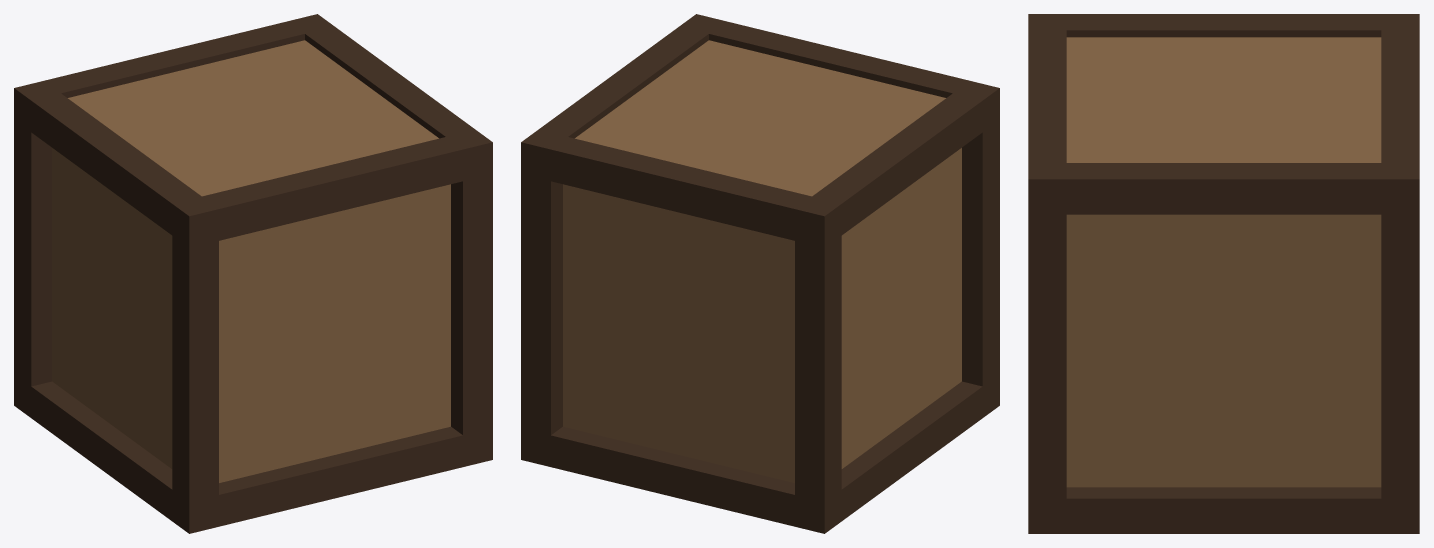
Rendered from SM_Wood_Crate_Static.glb.
The picture shows the model from 3 angles, left to right: view 1: azimuth 30°, elevation 25°; view 2: azimuth 150°, elevation 25°; view 3: azimuth 270°, elevation 25°; orthographic projection. The views are drawn at different scales.
Parts seen in each view (by area): view 1: SM_Wood_Crate_Static; view 2: SM_Wood_Crate_Static; view 3: SM_Wood_Crate_Static.
Boxes of the visible parts, x1=… form: SM_Wood_Crate_Static: x1=14, y1=14, x2=492, y2=533; SM_Wood_Crate_Static: x1=521, y1=14, x2=999, y2=533; SM_Wood_Crate_Static: x1=1028, y1=14, x2=1419, y2=533.
Size of the model in its own units: 0.35 by 0.35 by 0.35.
1 material, 1 textured.
